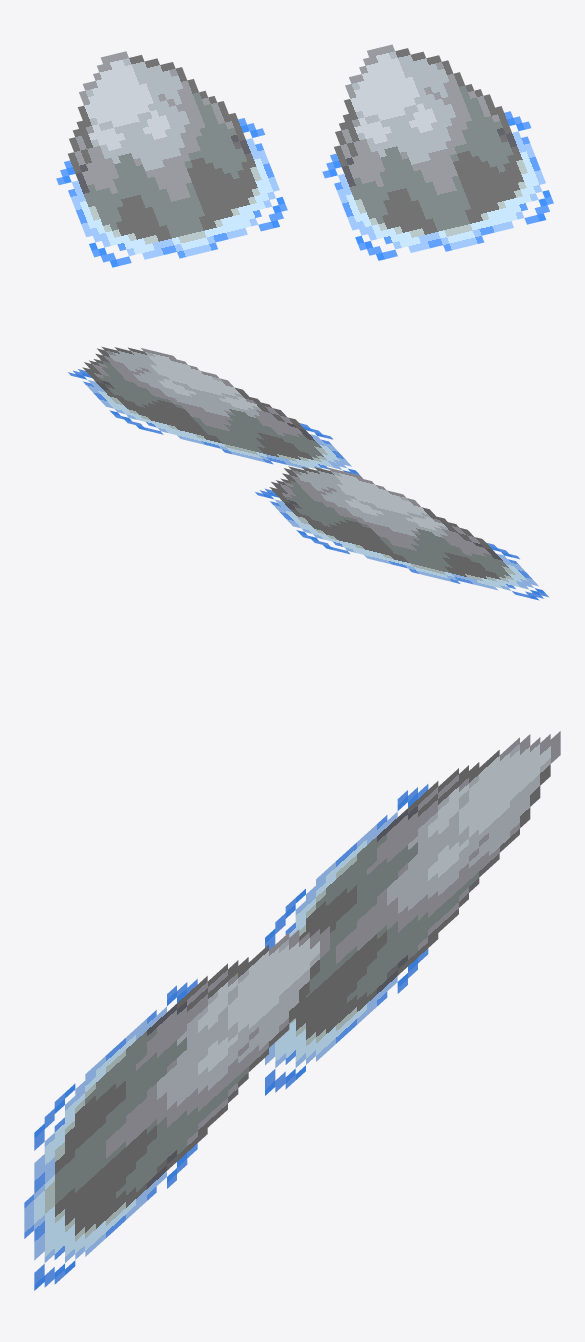
The picture shows the model from 3 angles, top to bottom: view 1: azimuth 30°, elevation 25°; view 2: azimuth 150°, elevation 25°; view 3: azimuth 270°, elevation 25°; orthographic projection. The views are drawn at different scales.
Size of the model in its own units: 4 by 1.41 by 2.41.
Materials: 1 (1 with a texture image).
